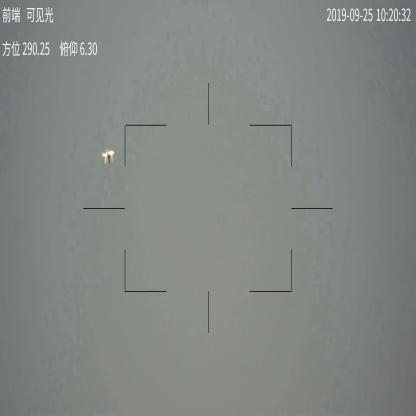uav: (99, 145, 116, 164)
